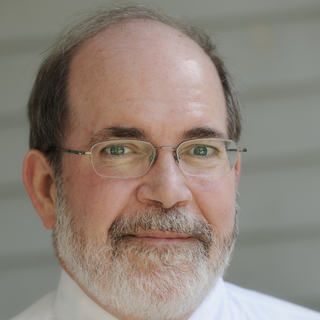eye: (94, 142, 142, 161), (180, 142, 224, 162)
